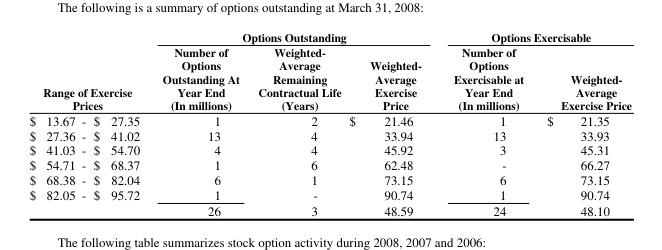table: (28, 29, 631, 218)
table column: (28, 29, 150, 218), (150, 29, 248, 218), (436, 29, 534, 218), (534, 29, 631, 218), (248, 29, 344, 218), (344, 29, 436, 218)
table column header: (28, 29, 631, 112)
table row: (28, 44, 631, 112), (28, 201, 631, 218), (28, 29, 631, 44), (28, 112, 631, 127), (28, 127, 631, 142), (28, 156, 631, 171), (28, 171, 631, 186), (28, 186, 631, 201), (28, 142, 631, 156)
table spanning cell: (28, 29, 150, 112), (150, 29, 436, 44), (436, 29, 631, 44)
